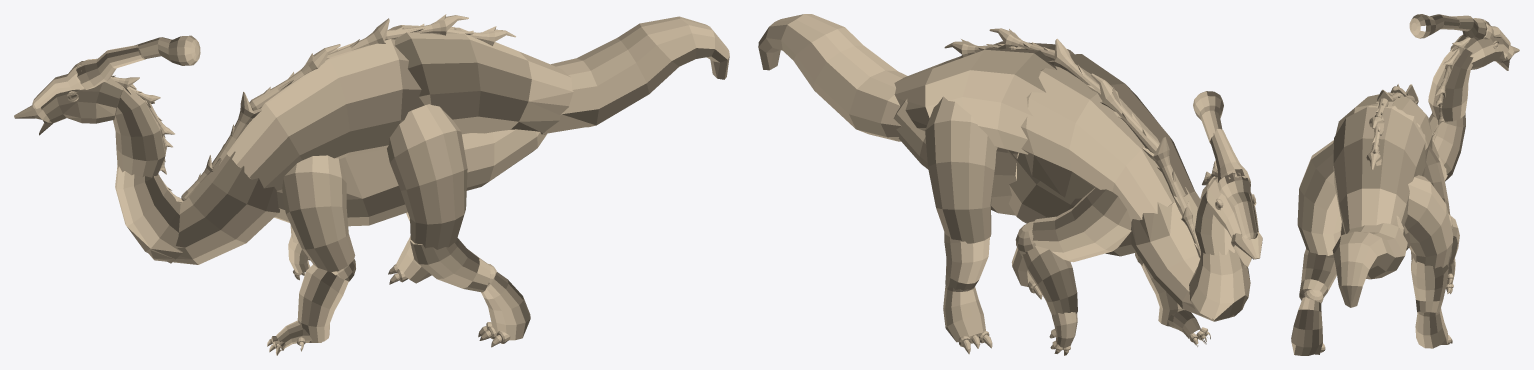
Rendered from taowu.glb.
3 views of the same model, side by side, from view 1: azimuth 30°, elevation 25°; view 2: azimuth 150°, elevation 25°; view 3: azimuth 270°, elevation 25° (orthographic). The views are drawn at different scales.
Visible parts, largest first — view 1: group2070620992; view 2: group2070620992; view 3: group2070620992.
Boxes of the visible parts, x1,y1,x2,y2 form: group2070620992: (14,14,729,355); group2070620992: (758,14,1262,355); group2070620992: (1291,14,1519,355).
Size of the model in its own units: 1.36 by 0.6649 by 0.5584.
